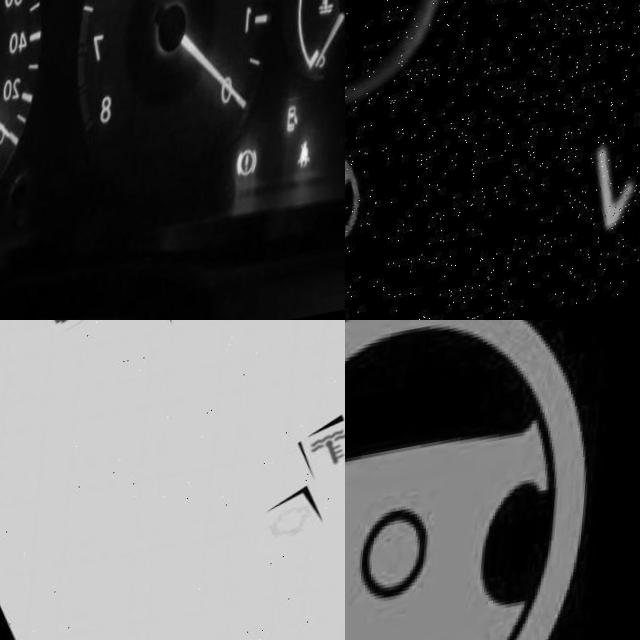Electronic Power Steering: (345, 320, 605, 640), (345, 102, 399, 301)
Seat Belt: (305, 159, 321, 191)
